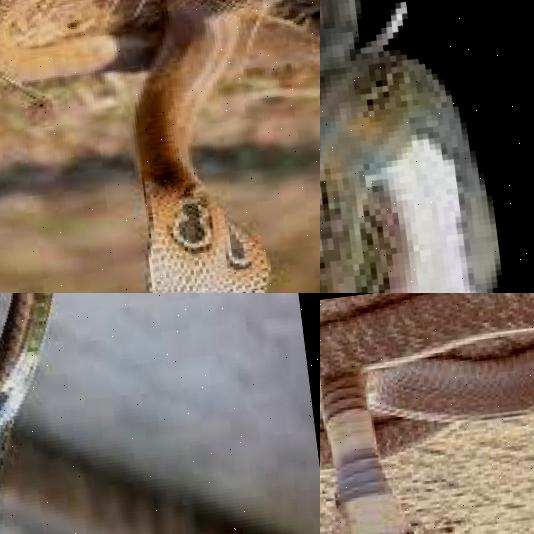snake: (0, 0, 320, 293), (320, 0, 515, 293), (320, 293, 534, 534), (0, 293, 97, 534)
